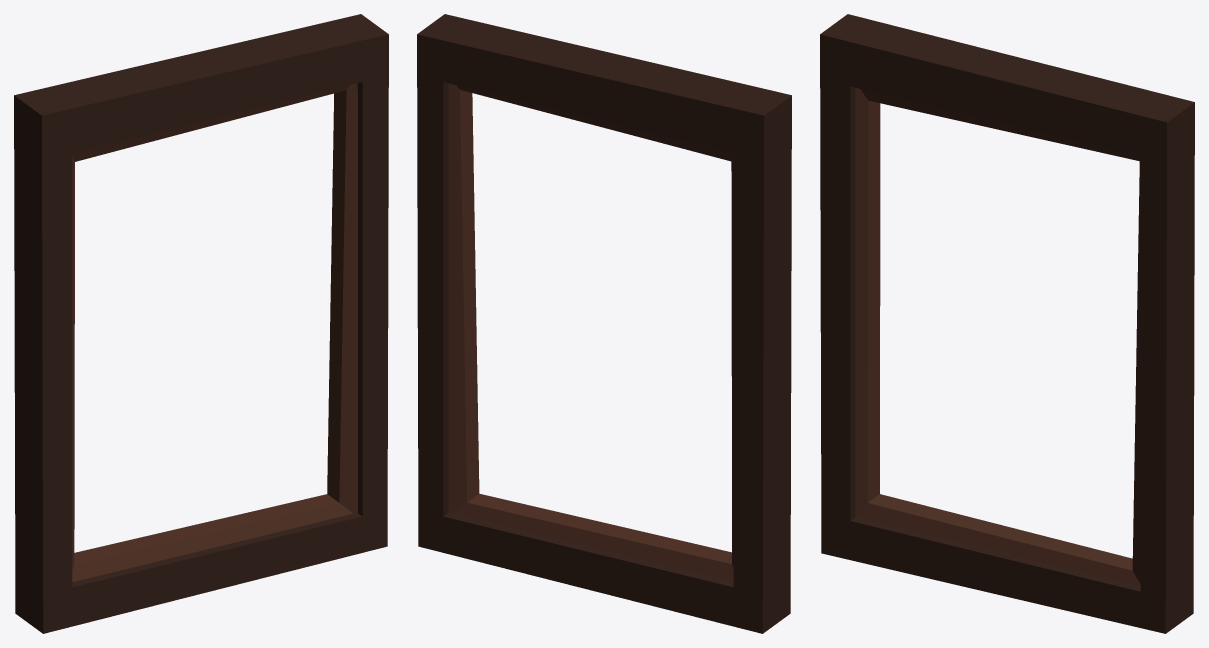
Rendered from Window 1x2 Frame.glb.
3 renders of one model, left to right at view 1: azimuth 30°, elevation 25°; view 2: azimuth 150°, elevation 25°; view 3: azimuth 330°, elevation 25°, orthographic.
Visible parts, largest first — view 1: Window 1x2 Frame; view 2: Window 1x2 Frame; view 3: Window 1x2 Frame.
Part boxes in pixels (x1,y1,x2,y2): Window 1x2 Frame: (14,14,388,633); Window 1x2 Frame: (417,14,791,633); Window 1x2 Frame: (820,14,1194,633).
Bounding box in the file's own units: 1.15 × 1.65 × 0.16.
Materials: 1 (1 with a texture image).
